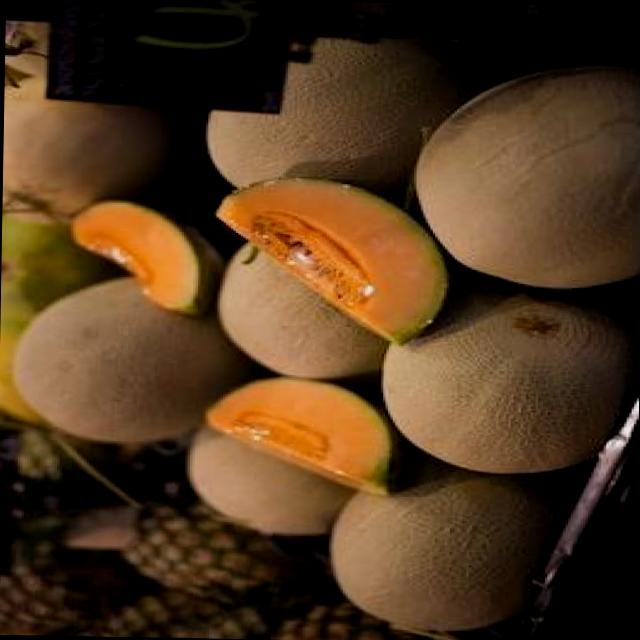cantaloupe: (406, 60, 640, 284), (373, 282, 640, 472), (214, 172, 450, 340), (334, 463, 550, 629), (200, 374, 403, 496), (69, 192, 225, 316)
